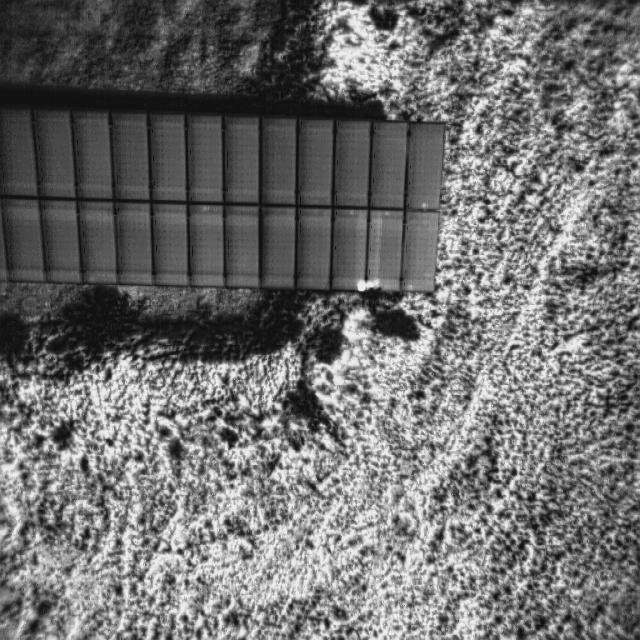diode: (332, 208, 365, 288), (368, 210, 400, 290)
